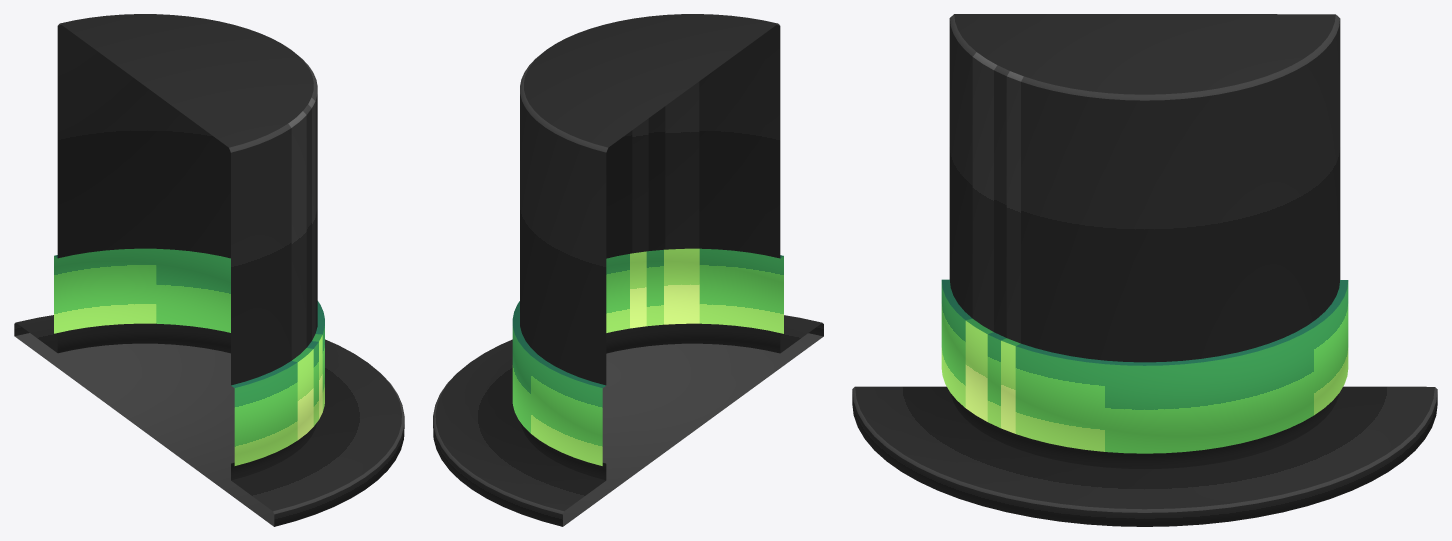
The model's file is GN Icon centered.glb.
3 views of the same model, side by side, from view 1: azimuth 30°, elevation 25°; view 2: azimuth 150°, elevation 25°; view 3: azimuth 270°, elevation 25° (orthographic). The views are drawn at different scales.
Parts seen in each view (by area): view 1: Cylinder; view 2: Cylinder; view 3: Cylinder.
Part boxes in pixels (x1,y1,x2,y2): Cylinder: [14, 14, 404, 526]; Cylinder: [433, 14, 823, 526]; Cylinder: [852, 14, 1437, 526].
Bounding box in the file's own units: 0.8198 × 1.2 × 1.64.
1 material, 1 textured.
